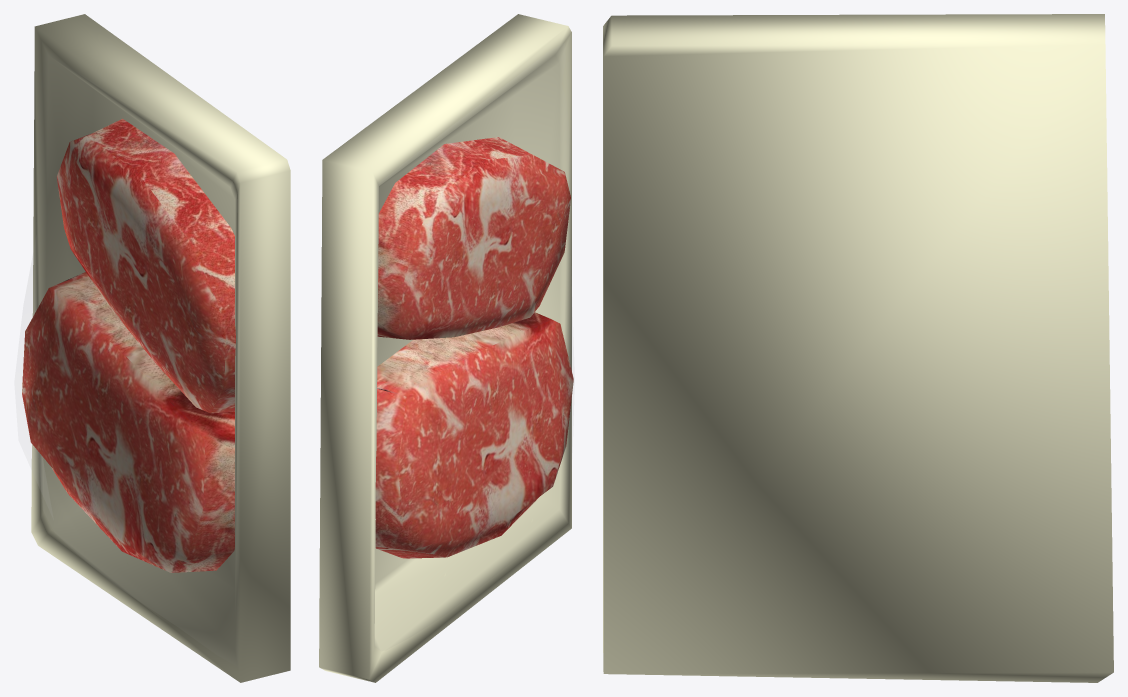
File: carne-sirloin.glb
3 views of the same model, side by side, from view 1: azimuth 30°, elevation 25°; view 2: azimuth 150°, elevation 25°; view 3: azimuth 270°, elevation 25° (orthographic). The views are drawn at different scales.
Visible parts, largest first — view 1: carne-sirloin.001; view 2: carne-sirloin.001; view 3: carne-sirloin.001.
Boxes of the visible parts, left/top/right/bottom form: carne-sirloin.001: left=22, top=14, right=290, bottom=682; carne-sirloin.001: left=319, top=14, right=573, bottom=682; carne-sirloin.001: left=603, top=14, right=1113, bottom=682.
Size of the model in its own units: 0.0993 by 0.4838 by 0.3508.
3 materials, 2 textured.
